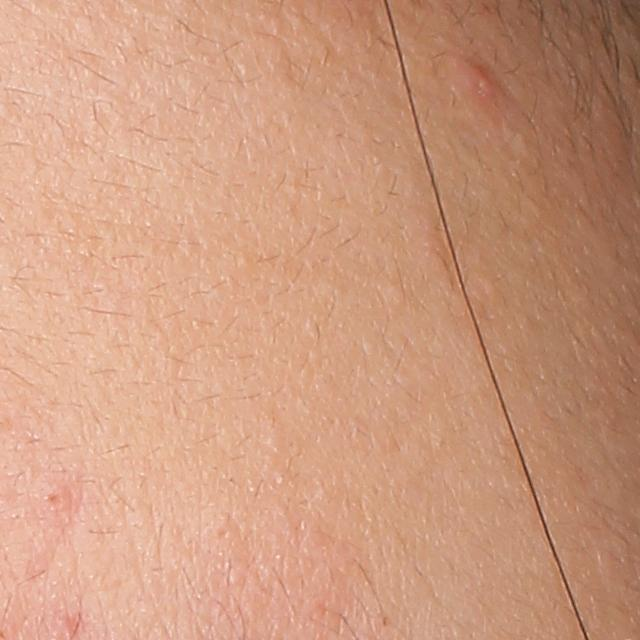papule: (464, 60, 499, 107)
